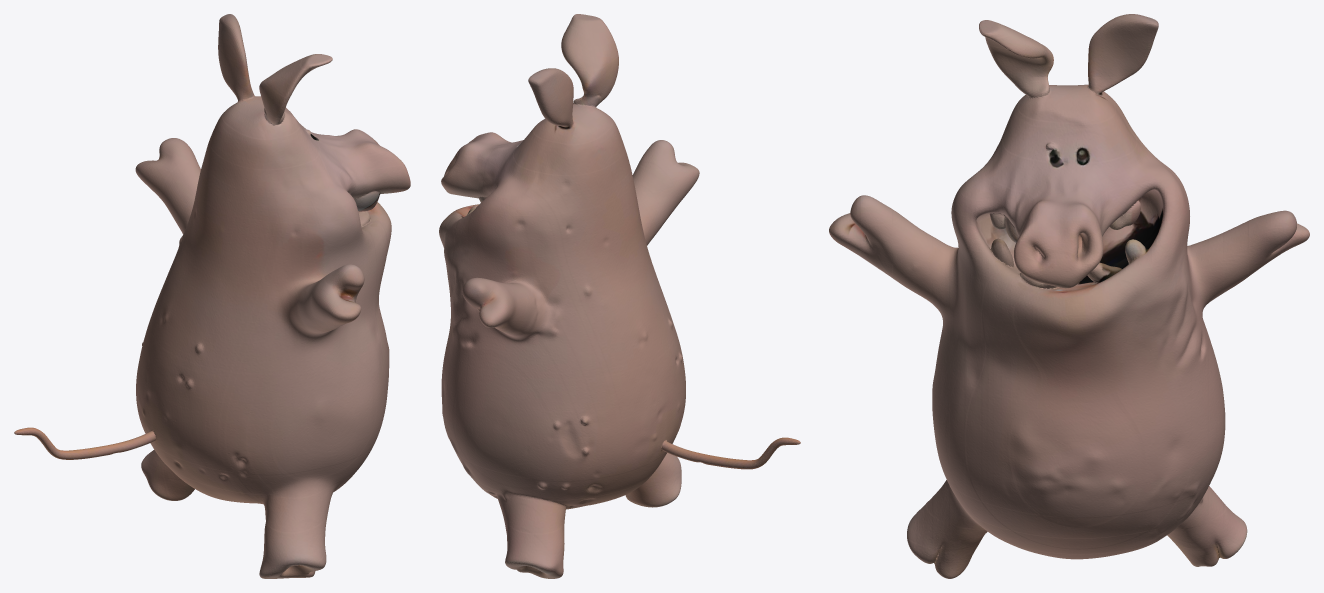
The model's file is naughty-pigs.glb.
The picture shows the model from 3 angles, left to right: view 1: azimuth 30°, elevation 25°; view 2: azimuth 150°, elevation 25°; view 3: azimuth 270°, elevation 25°; orthographic projection. The views are drawn at different scales.
Parts seen in each view (by area): view 1: tripo_node_5be7d46e-4177-444a-b95d-da6dfbac5eff; view 2: tripo_node_5be7d46e-4177-444a-b95d-da6dfbac5eff; view 3: tripo_node_5be7d46e-4177-444a-b95d-da6dfbac5eff.
Part boxes in pixels (box(x1,y1,x2,y2)): tripo_node_5be7d46e-4177-444a-b95d-da6dfbac5eff: box(14, 14, 410, 578); tripo_node_5be7d46e-4177-444a-b95d-da6dfbac5eff: box(439, 14, 800, 578); tripo_node_5be7d46e-4177-444a-b95d-da6dfbac5eff: box(829, 14, 1309, 578).
Bounding box in the file's own units: 0.7815 × 1 × 0.7666.
1 material, 1 textured.
